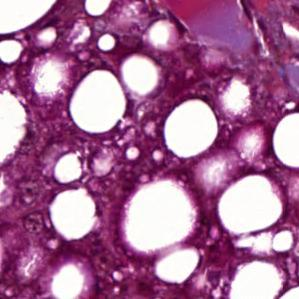steatosis: (164, 97, 219, 159), (1, 0, 58, 32), (273, 112, 299, 167), (98, 33, 116, 50)
